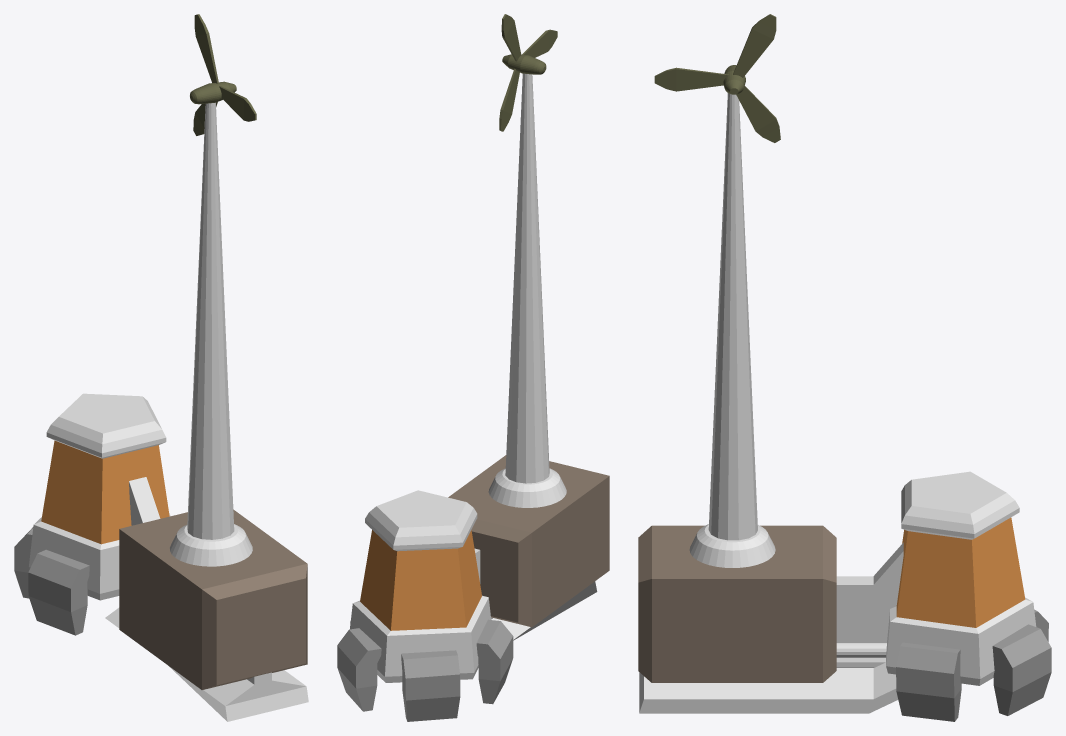
The model's file is yellowgreenbuilding.fbx.
The picture shows the model from 3 angles, left to right: view 1: azimuth 30°, elevation 25°; view 2: azimuth 150°, elevation 25°; view 3: azimuth 270°, elevation 25°; orthographic projection. The views are drawn at different scales.
Parts seen in each view (by area): view 1: Cylinder.010, Cylinder.002; view 2: Cylinder.010, Cylinder.002; view 3: Cylinder.010, Cylinder.002.
Part boxes in pixels (x1,y1,x2,y2): Cylinder.010: [105, 14, 308, 721]; Cylinder.002: [14, 393, 170, 635]; Cylinder.010: [448, 14, 609, 640]; Cylinder.002: [337, 490, 513, 721]; Cylinder.010: [638, 14, 903, 713]; Cylinder.002: [886, 471, 1051, 721].
Bounding box in the file's own units: 625 × 1361 × 2453.
